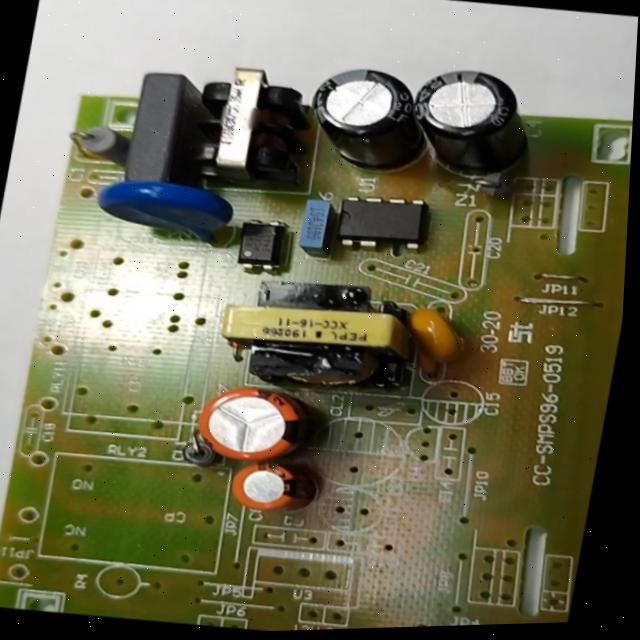Cap1: (192, 380, 316, 466)
Cap2: (225, 457, 318, 517)
Cap3: (298, 58, 428, 181)
Cap4: (402, 60, 541, 179)
MOSFET: (331, 189, 434, 258)
Mov: (88, 172, 246, 253)
Resistor: (63, 120, 137, 171)
Transformer: (209, 267, 428, 403), (184, 60, 317, 194)
